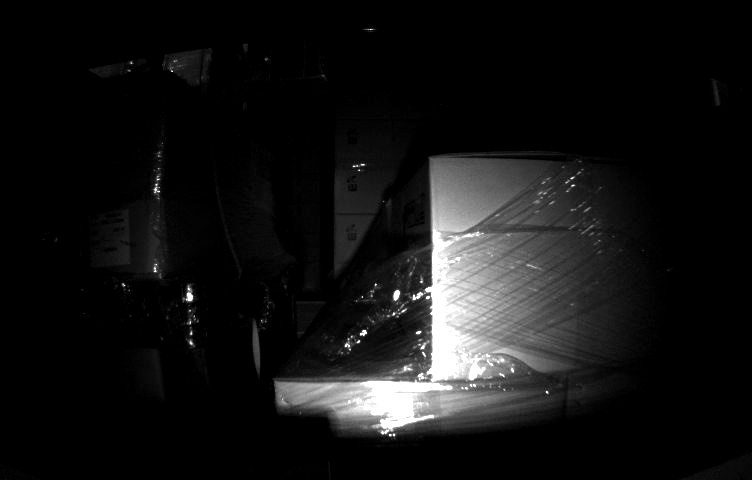True Barcode: (90, 211, 132, 267)
